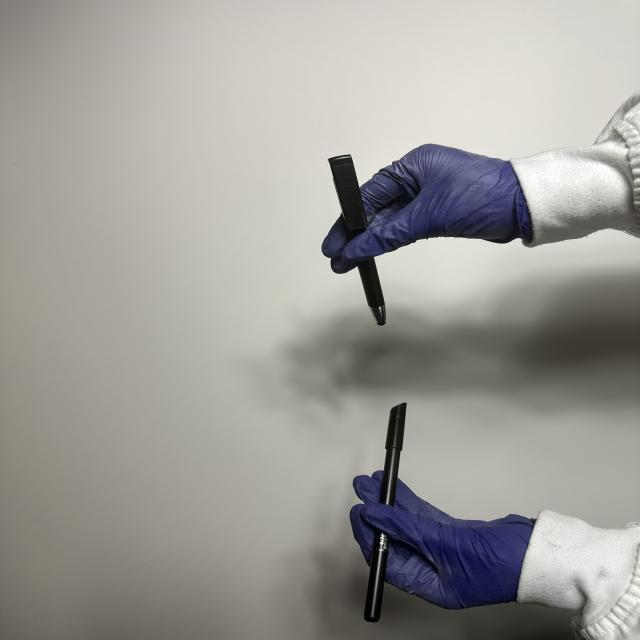gloves_contaminated: (322, 144, 532, 273), (350, 476, 533, 609)
